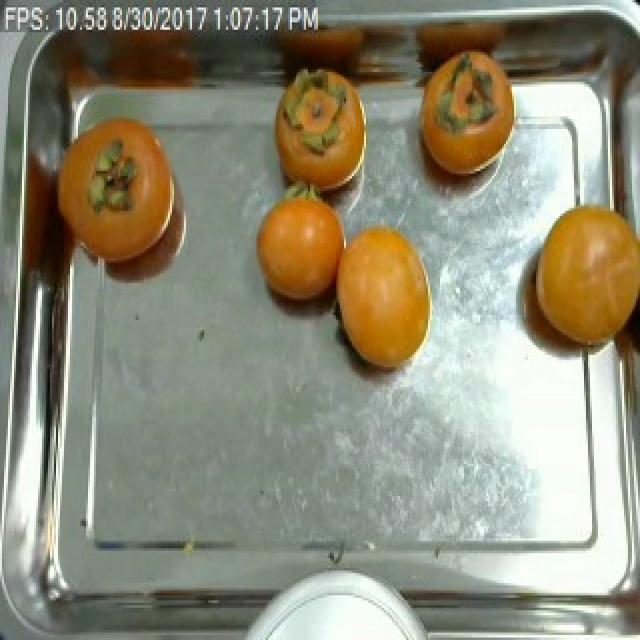Fruit: (46, 94, 194, 305), (516, 194, 640, 372), (324, 208, 442, 382), (402, 42, 528, 204), (260, 54, 382, 214), (244, 178, 352, 328)
